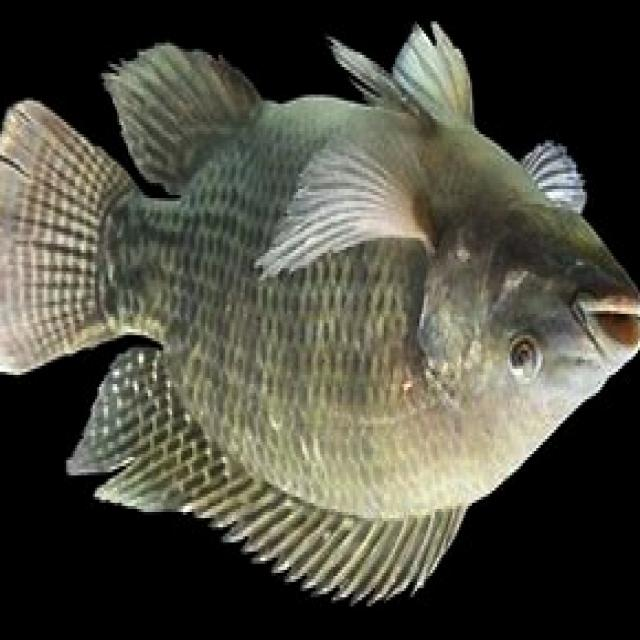Tilapia: (0, 13, 640, 605)
